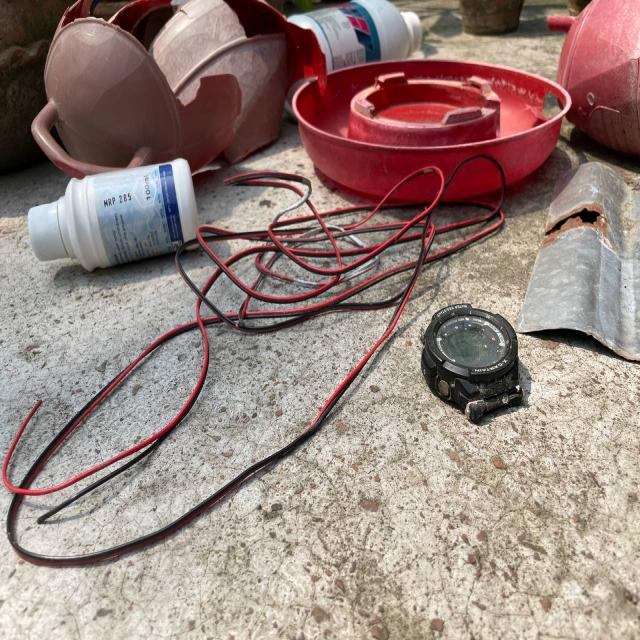Cable: (10, 251, 447, 583)
E-waste: (423, 293, 528, 428)
Metal: (544, 149, 640, 380)
Plastics: (48, 0, 640, 152), (14, 158, 202, 266)
